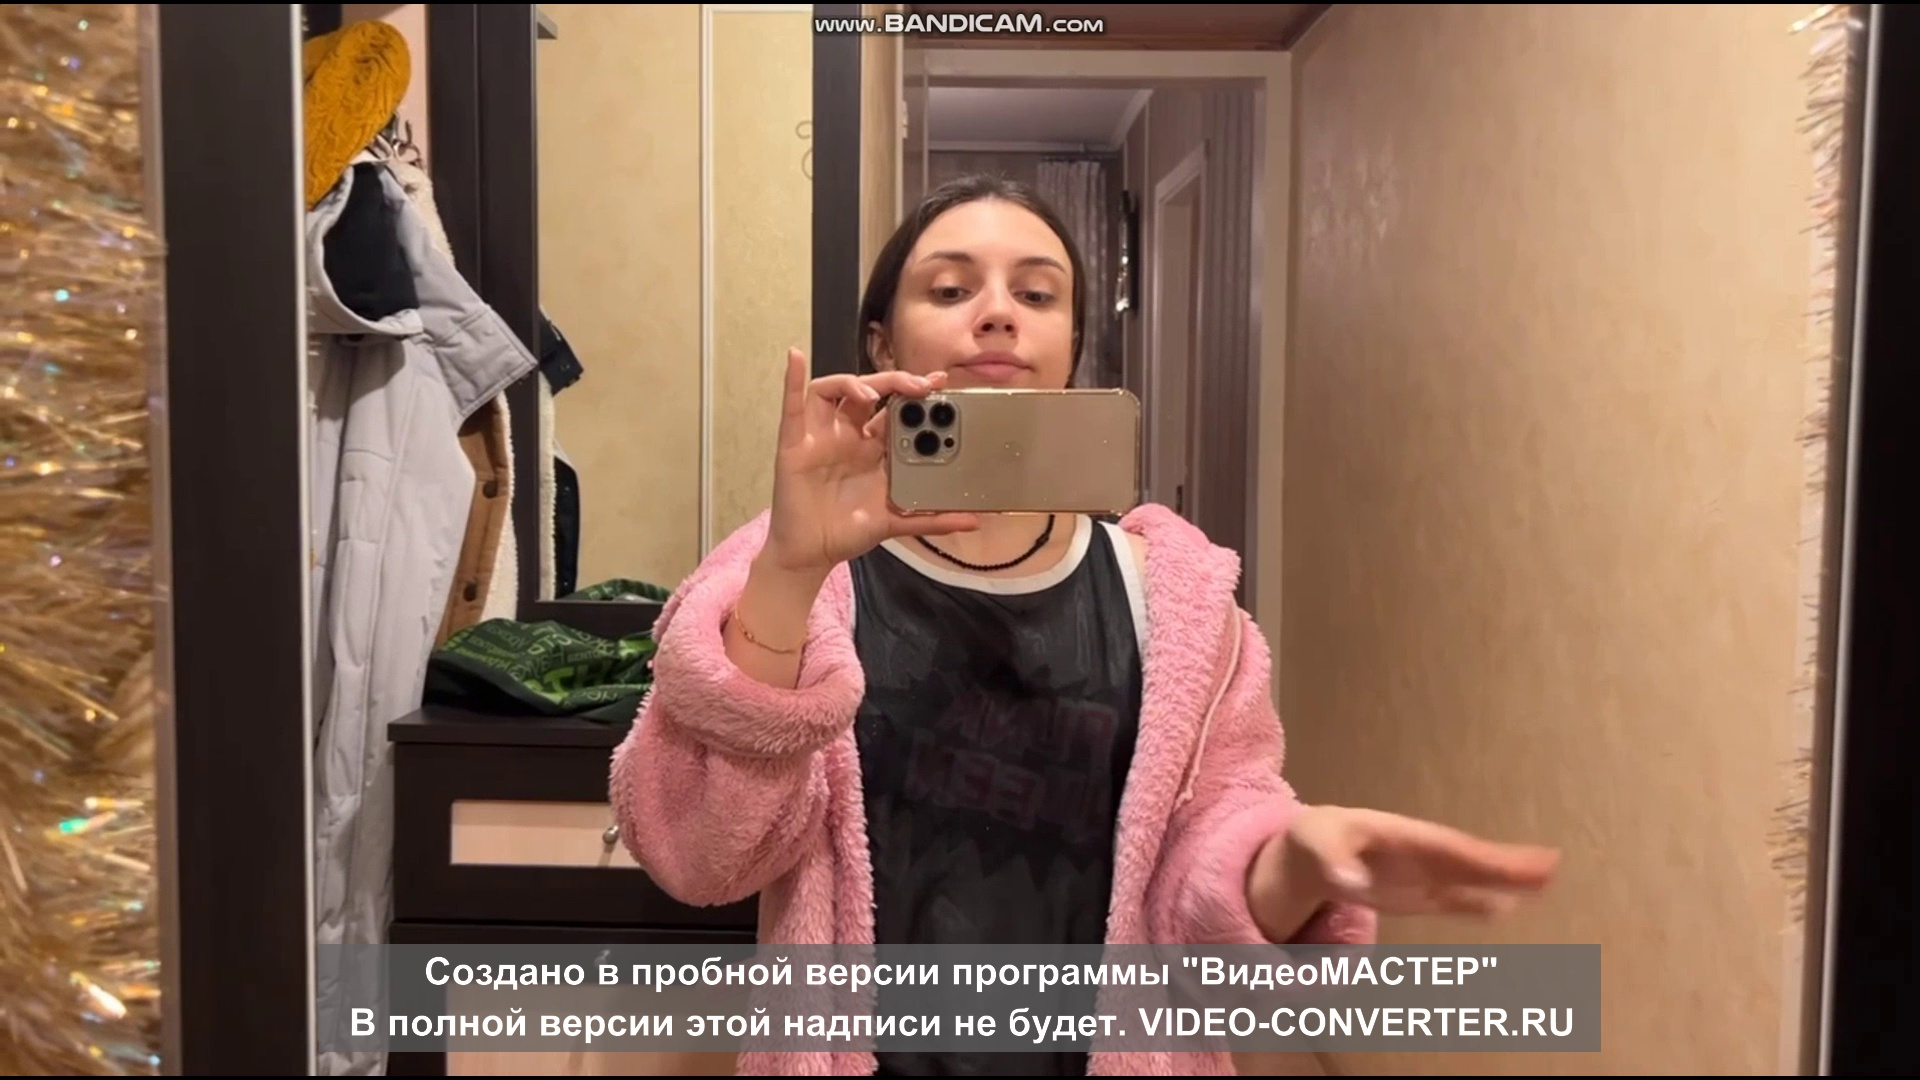Ладонь: (1292, 803, 1565, 922)
